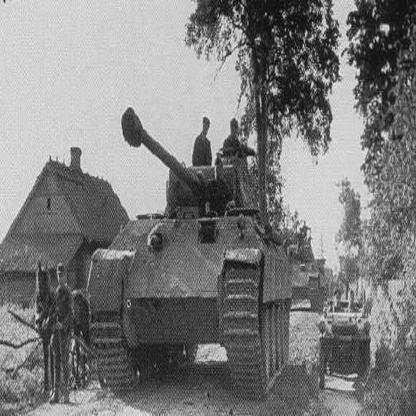Tank: (85, 108, 301, 405)
